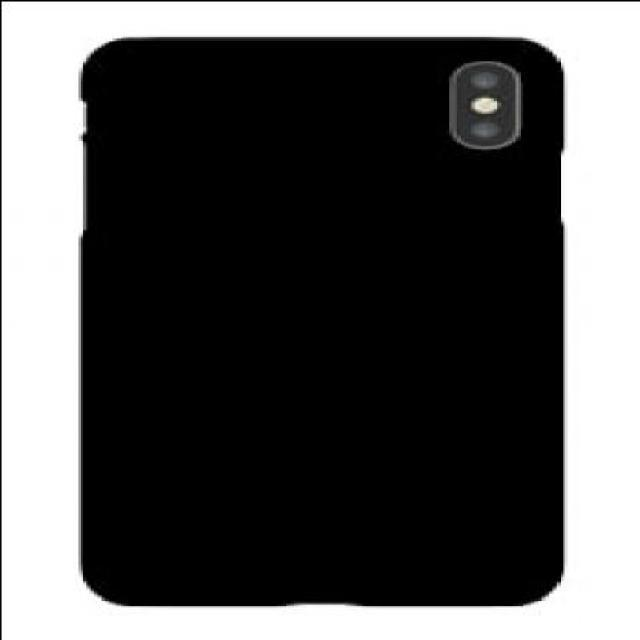phone: (82, 35, 566, 603)
